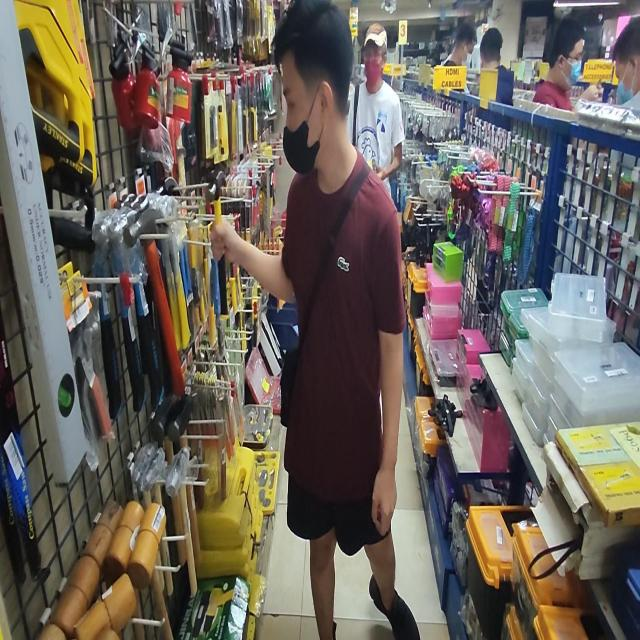hammer: (125, 208, 184, 395)
